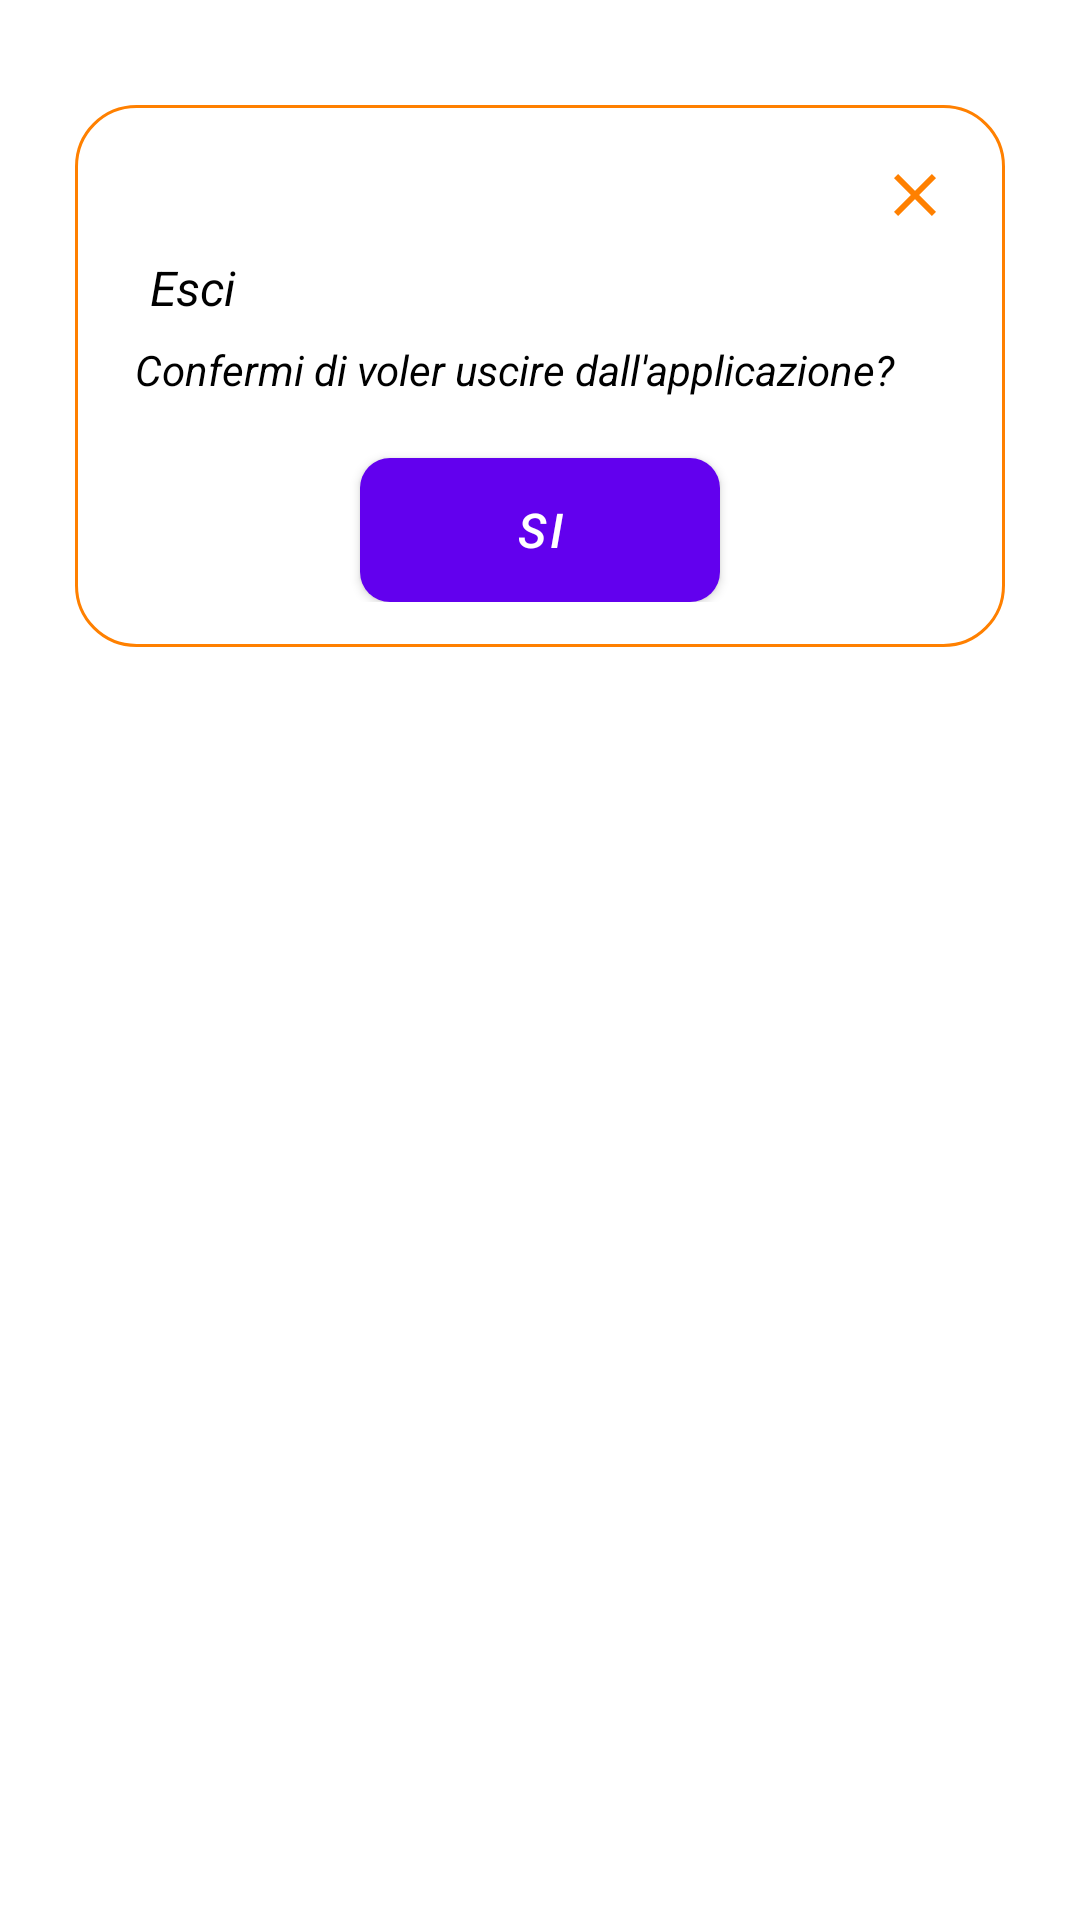

Icon click points for this 1080 x 1920 phone screenshot, format (x,y):
exit: (915,195)
